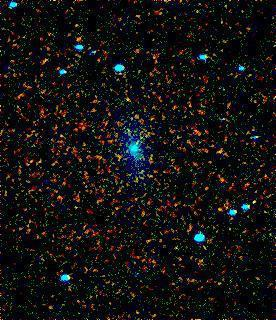star: (204, 194, 234, 224)
